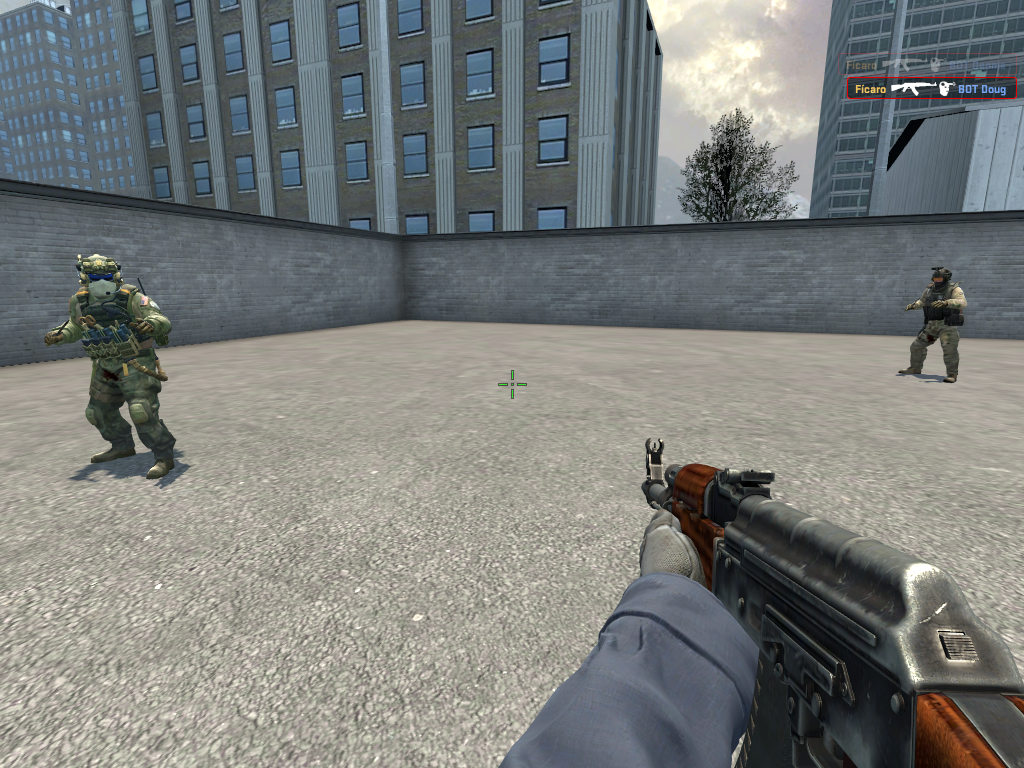ct head: (75, 254, 122, 298), (930, 266, 953, 289)
